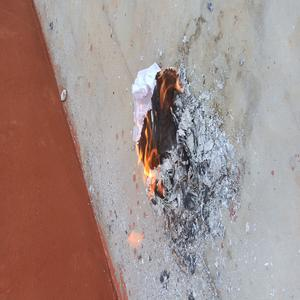fire: (133, 118, 158, 193), (153, 68, 185, 103)
